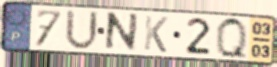2: (184, 17, 214, 57)
7: (34, 8, 63, 48)
K: (142, 14, 169, 54)
N: (102, 11, 140, 53)
Q: (214, 15, 250, 62)
U: (63, 8, 101, 52)
